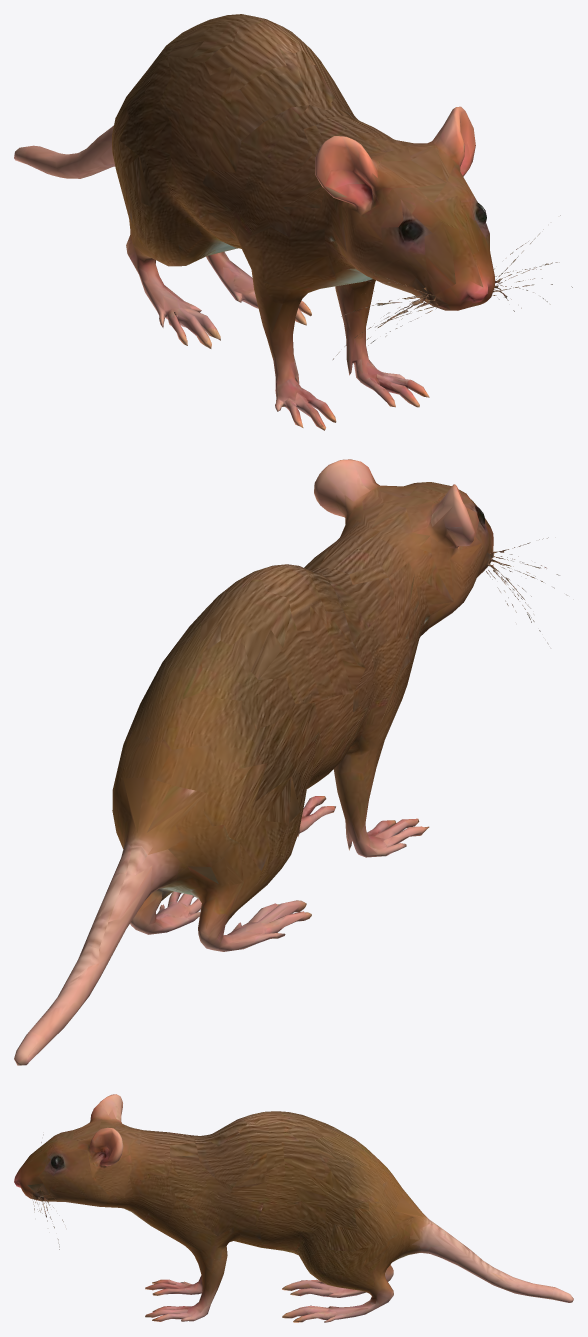
File: rat.glb
3 views of the same model, one above another, from view 1: azimuth 30°, elevation 25°; view 2: azimuth 150°, elevation 25°; view 3: azimuth 270°, elevation 25° (orthographic). The views are drawn at different scales.
Visible parts, largest first — view 1: Mesh_0; view 2: Mesh_0; view 3: Mesh_0.
Part boxes in pixels (x1,y1,x2,y2): Mesh_0: [14, 14, 572, 430]; Mesh_0: [14, 459, 567, 1065]; Mesh_0: [14, 1094, 573, 1322].
Bounding box in the file's own units: 0.721 × 1 × 2.61.
1 material, 1 textured.
